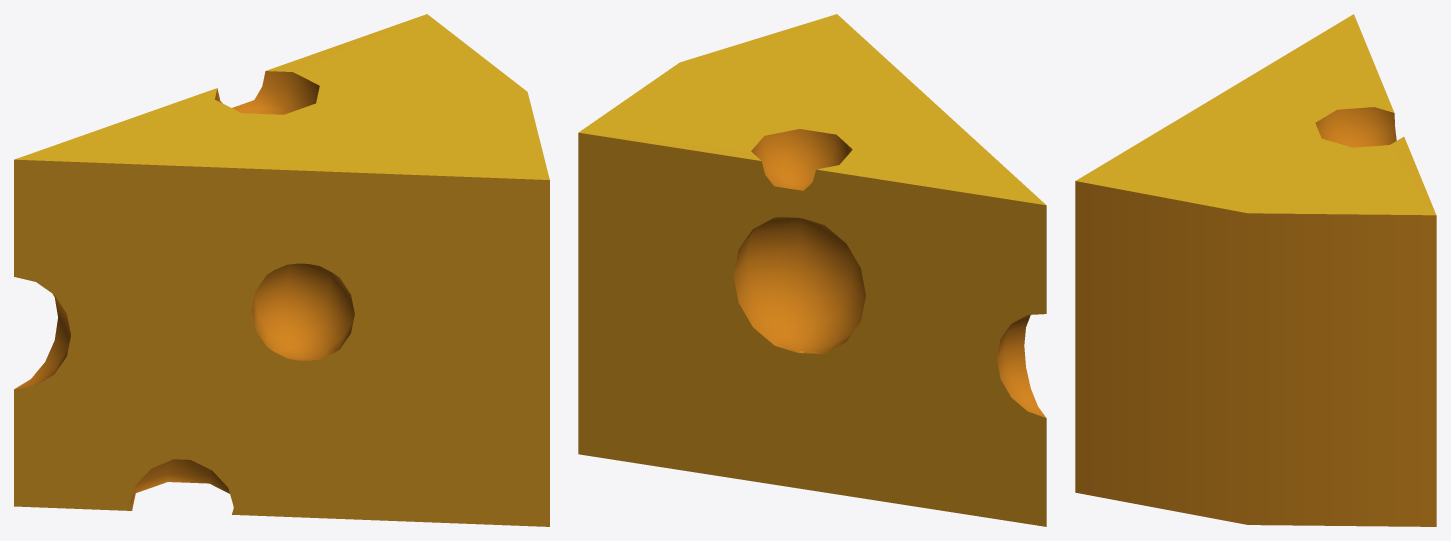
Rendered from SwissCheese_Slice.fbx.
3 renders of one model, left to right at view 1: azimuth 30°, elevation 25°; view 2: azimuth 150°, elevation 25°; view 3: azimuth 270°, elevation 25°, orthographic. The views are drawn at different scales.
Parts seen in each view (by area): view 1: SwissCheese_Slice; view 2: SwissCheese_Slice; view 3: SwissCheese_Slice.
Boxes of the visible parts, x1,y1,x2,y2 form: SwissCheese_Slice: (14,14,549,526); SwissCheese_Slice: (578,14,1046,526); SwissCheese_Slice: (1075,14,1436,526).
Size of the model in its own units: 27.38 by 19.77 by 20.75.
